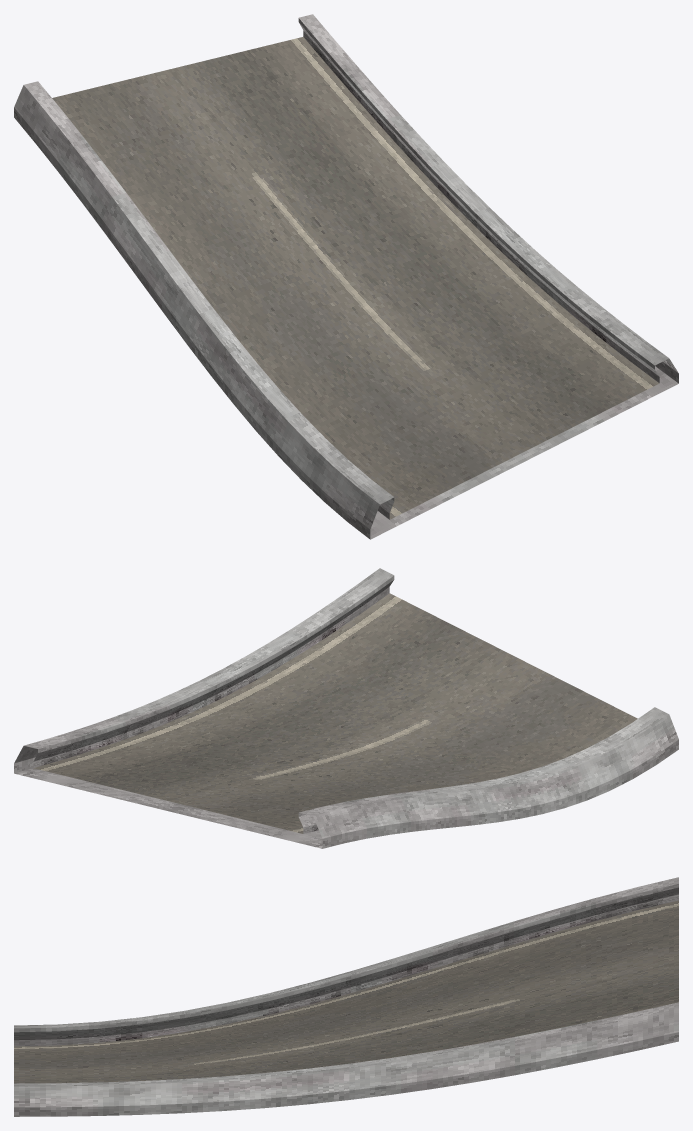
File: road-Straight-HalfBankedLeft-BiSlopeUp-Up2-Center-Size2.glb
3 views of the same model, one above another, from view 1: azimuth 30°, elevation 25°; view 2: azimuth 150°, elevation 25°; view 3: azimuth 270°, elevation 25° (orthographic). The views are drawn at different scales.
Parts seen in each view (by area): view 1: road-Straight-HalfBankedLeft-BiSlopeUp-Up2-Center-Size2; view 2: road-Straight-HalfBankedLeft-BiSlopeUp-Up2-Center-Size2; view 3: road-Straight-HalfBankedLeft-BiSlopeUp-Up2-Center-Size2.
Part boxes in pixels (bbox=[...]): road-Straight-HalfBankedLeft-BiSlopeUp-Up2-Center-Size2: bbox=[14, 14, 678, 539]; road-Straight-HalfBankedLeft-BiSlopeUp-Up2-Center-Size2: bbox=[14, 568, 678, 848]; road-Straight-HalfBankedLeft-BiSlopeUp-Up2-Center-Size2: bbox=[14, 877, 678, 1116].
Bounding box in the file's own units: 1 × 0.5937 × 2.
Materials: 2 (2 with a texture image).
